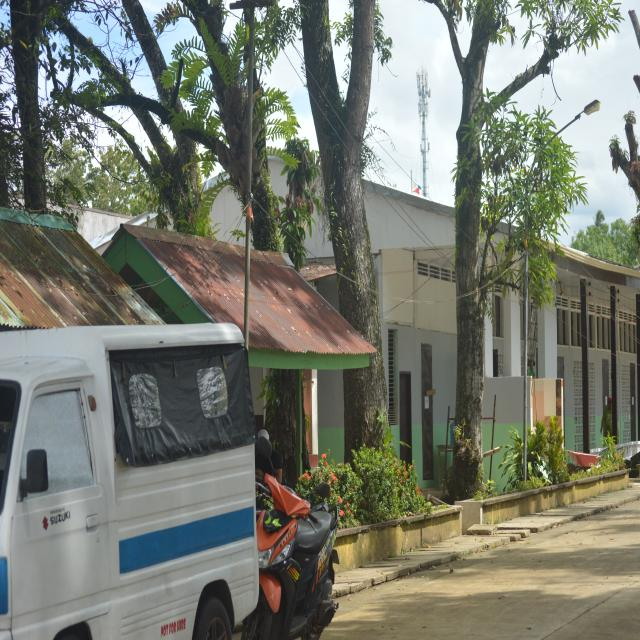person: (601, 397, 612, 436), (271, 450, 282, 484)
